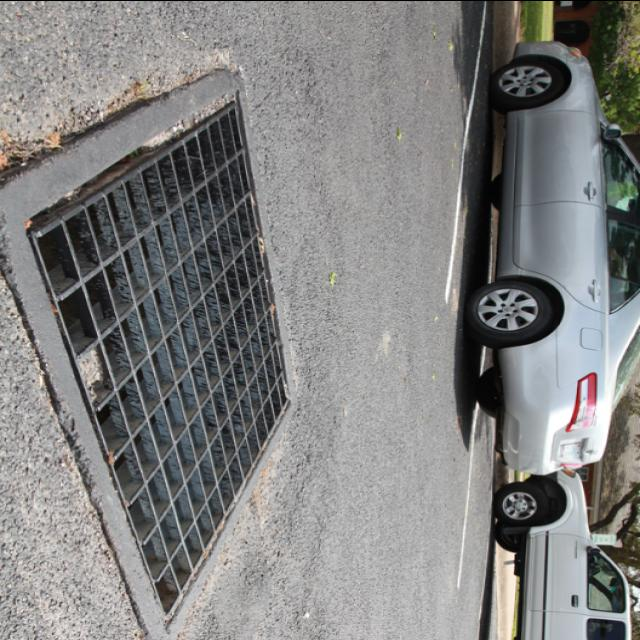Breeding Place: (0, 70, 295, 640)
